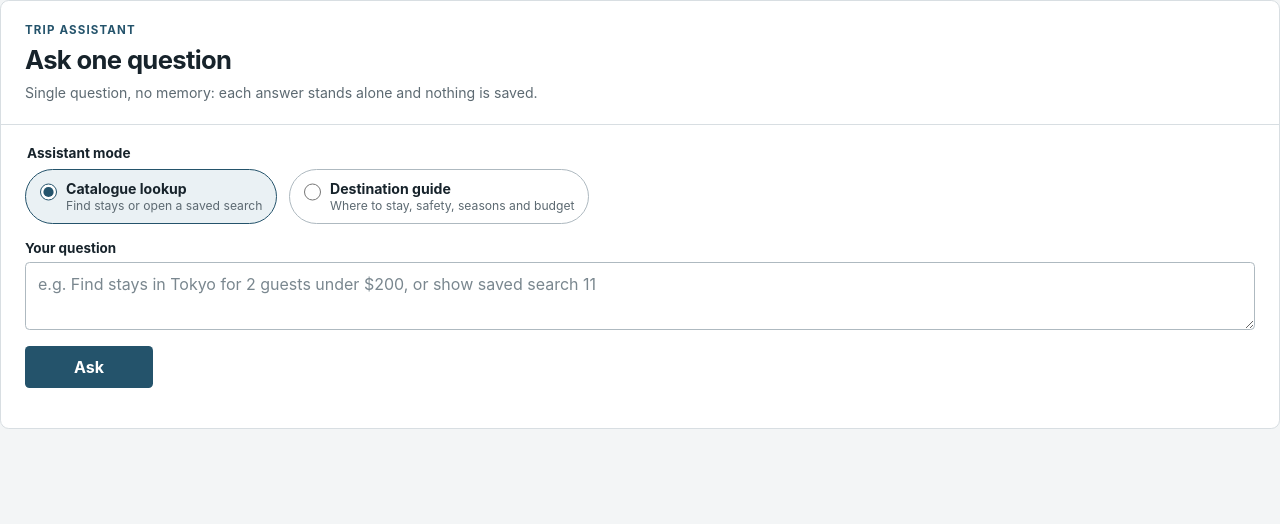
Test: AssistantPanel › shows a distinct mode_disabled state
Replace the text in the text box with id "assistant-question" with "What is the weather?" at (640, 296), box 25,262 -> 1255,330
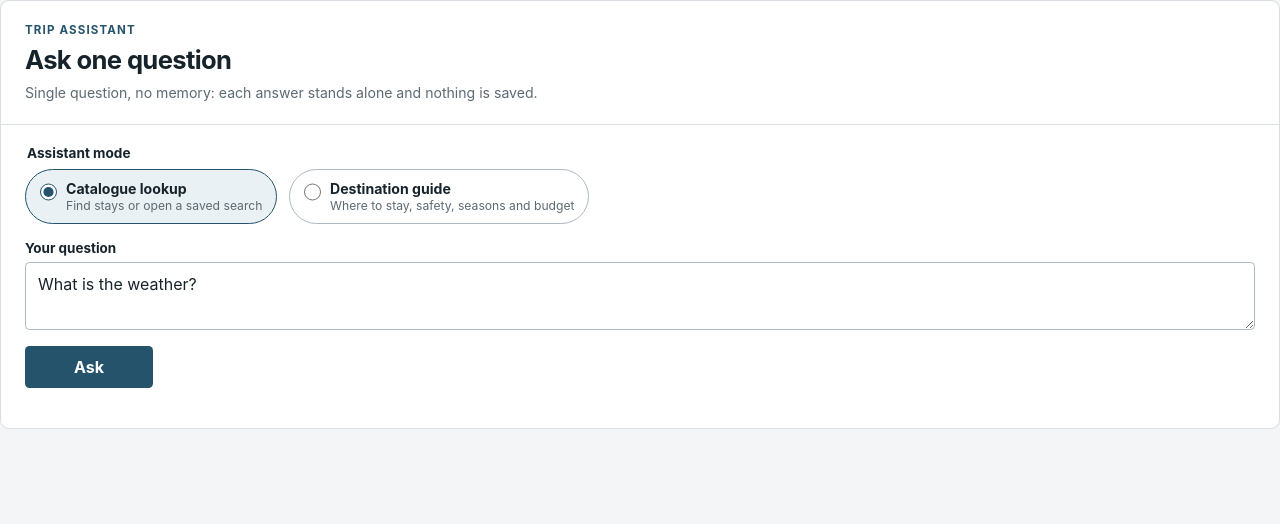
Click the button with class "assistant-submit" at (89, 367), box 25,346 -> 153,388
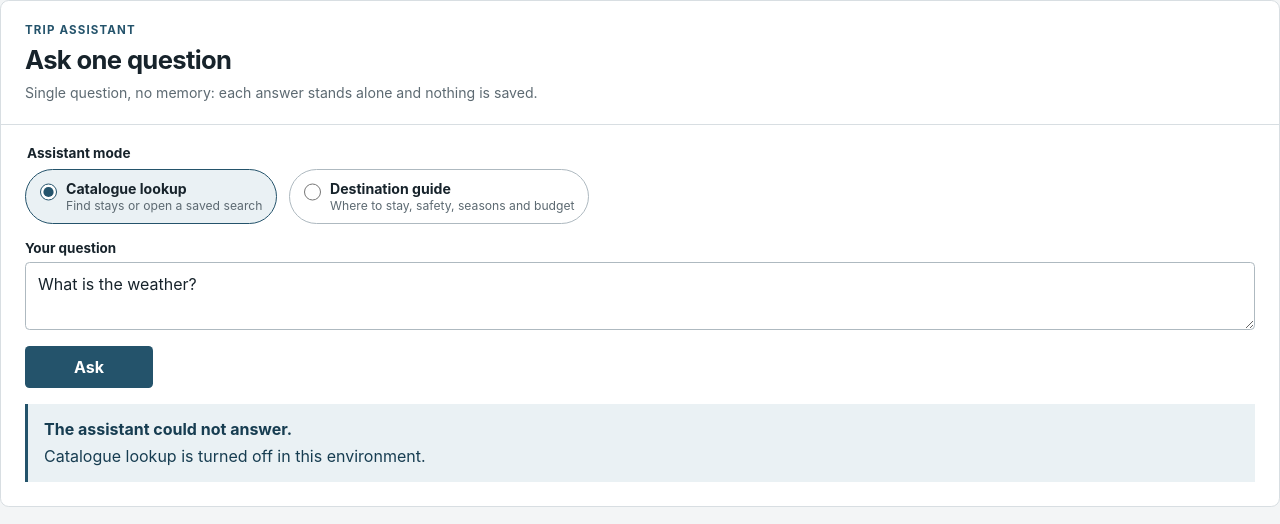
Check: the text "turned off" is shown, box 44,446 -> 426,466
